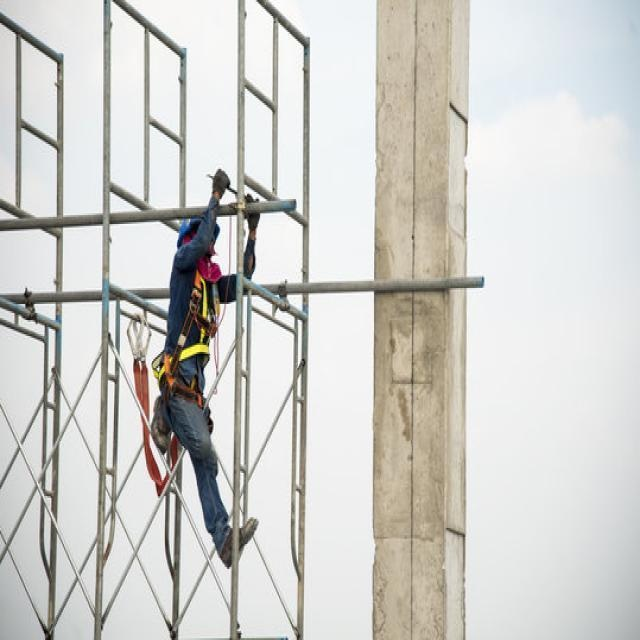Arnes_seguridad: (156, 268, 217, 409)
